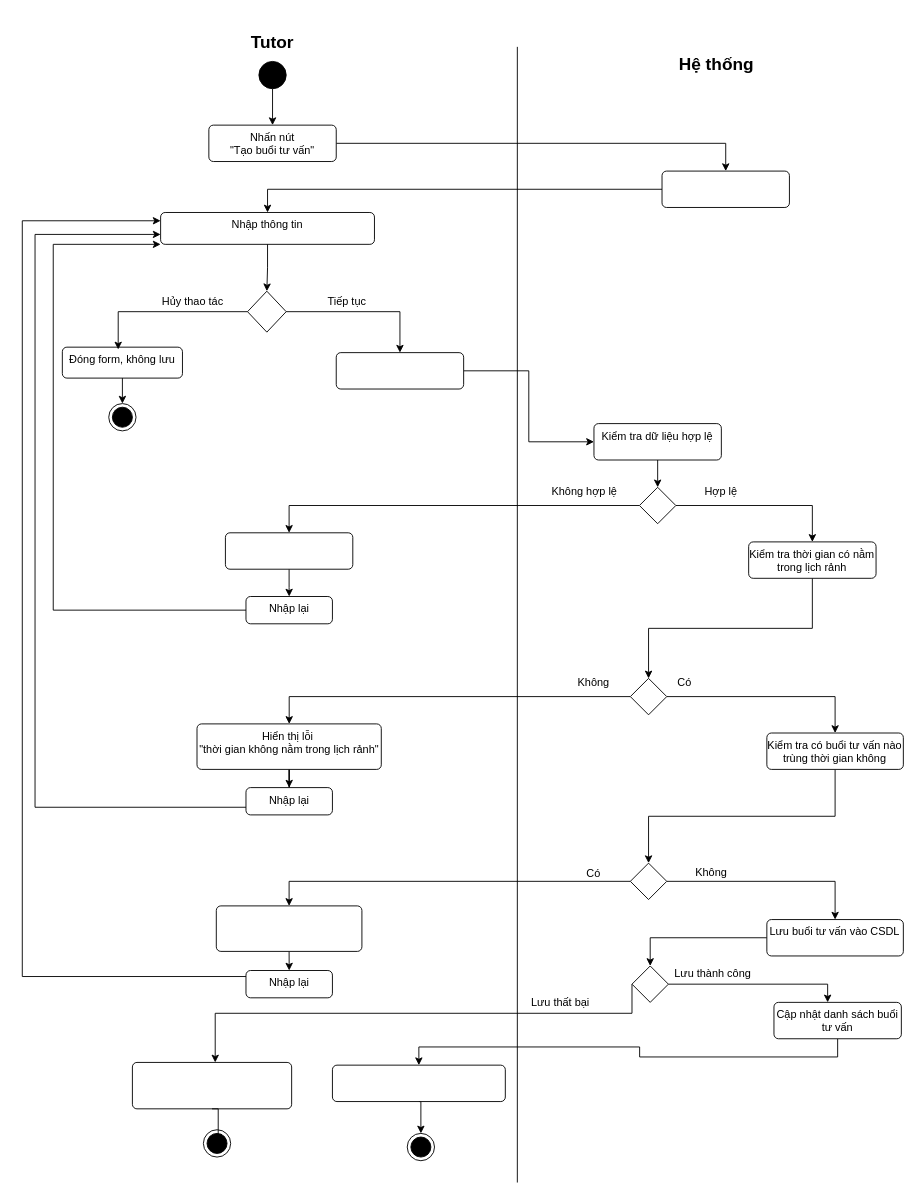
Some shapes in this 920 by 1198 pixel diagram are drawn without their labels. The box of each missing label's shape, as (x1, y1, x2, y2) in pixels:
Hiển thị form tạo buổi: (661, 170, 789, 207)
Hiển thị lỗi "Thông tin không hợp lệ": (224, 532, 353, 569)
Hiển thị lỗi "Thất bại.Vui lòng thử lại sau": (131, 1062, 292, 1109)
Hiển thị lỗi "Thời gian đã được sử dụng": (215, 905, 362, 951)
Hiển thị thông báo "Buổi tư ván được tạo thành công": (332, 1064, 505, 1102)
Nhán "Xác nhận": (335, 352, 464, 389)
